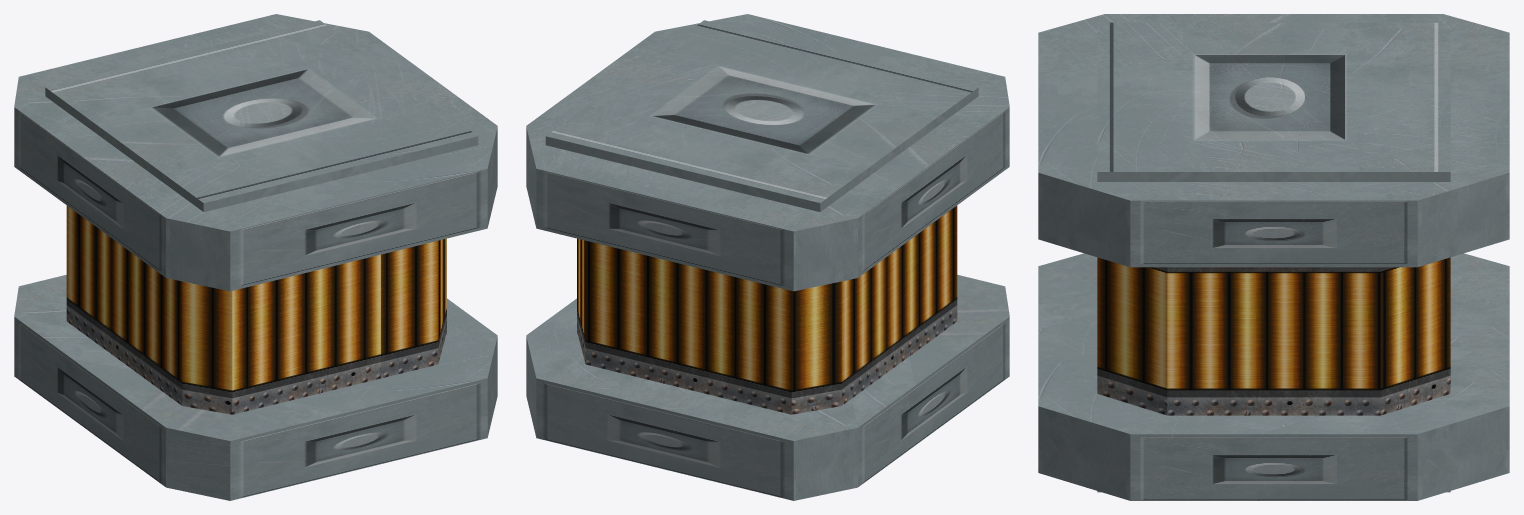
File: ammo_crate.fbx
3 views of the same model, side by side, from view 1: azimuth 30°, elevation 25°; view 2: azimuth 150°, elevation 25°; view 3: azimuth 270°, elevation 25° (orthographic). The views are drawn at different scales.
Parts seen in each view (by area): view 1: Object; view 2: Object; view 3: Object.
Part boxes in pixels (x1,y1,x2,y2): Object: [14, 14, 497, 500]; Object: [526, 14, 1009, 500]; Object: [1038, 14, 1509, 500].
Bounding box in the file's own units: 375 × 300 × 400.
